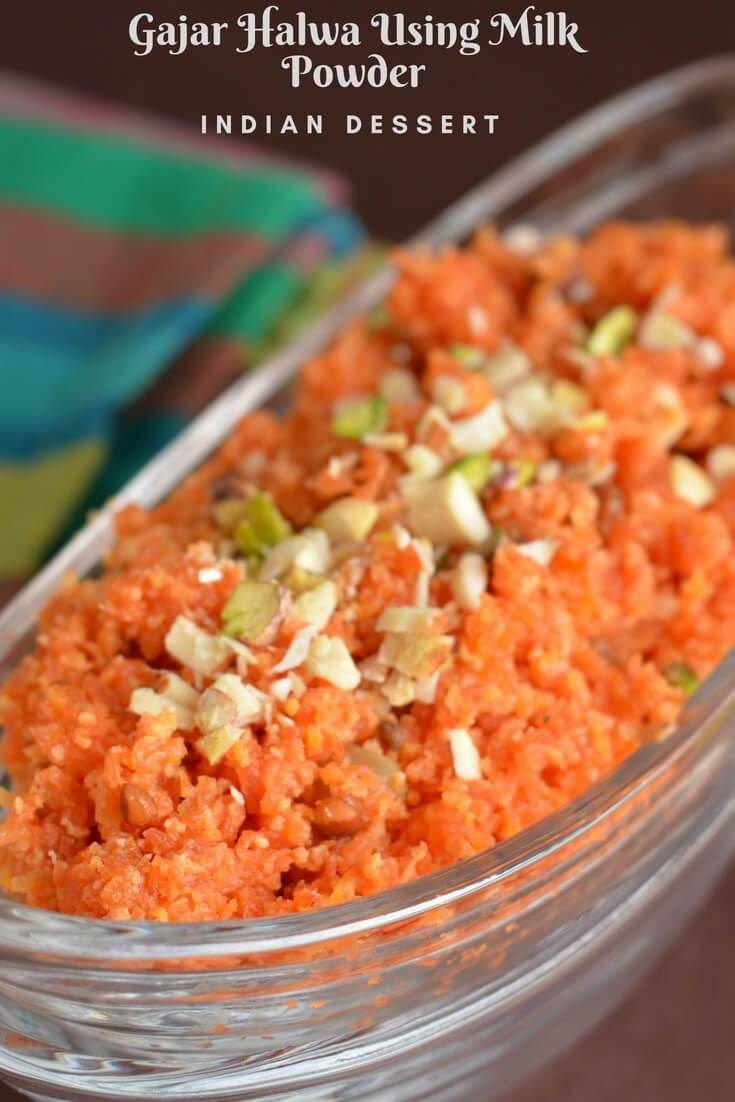Gajar ka halwa: (9, 195, 731, 1074)
